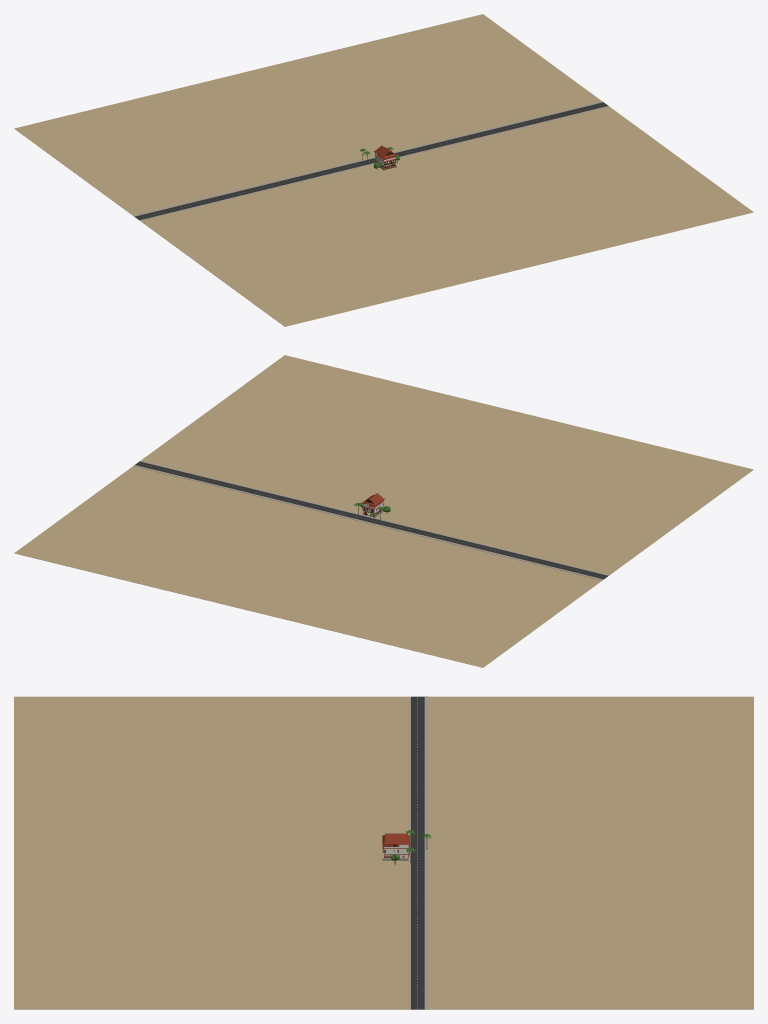
The model's file is home_hotel.glb.
3 renders of one model, top to bottom at view 1: azimuth 30°, elevation 25°; view 2: azimuth 150°, elevation 25°; view 3: azimuth 270°, elevation 25°, orthographic. The views are drawn at different scales.
Visible parts, largest first — view 1: SITE__Earth, SITE__Asphalt, SITE__Concrete; view 2: SITE__Earth, SITE__Asphalt, SITE__Concrete; view 3: SITE__Earth, SITE__Asphalt, SITE__Concrete.
Boxes of the visible parts, <box> form: SITE__Earth: <box>14,14,753,326</box>; SITE__Asphalt: <box>135,102,608,220</box>; SITE__Concrete: <box>133,101,609,220</box>; SITE__Earth: <box>14,355,753,667</box>; SITE__Asphalt: <box>135,461,607,579</box>; SITE__Concrete: <box>133,460,609,580</box>; SITE__Earth: <box>14,696,753,1009</box>; SITE__Asphalt: <box>411,696,424,1009</box>; SITE__Concrete: <box>382,696,428,1009</box>.
Bounding box in the file's own units: 366 × 13.74 × 366.
